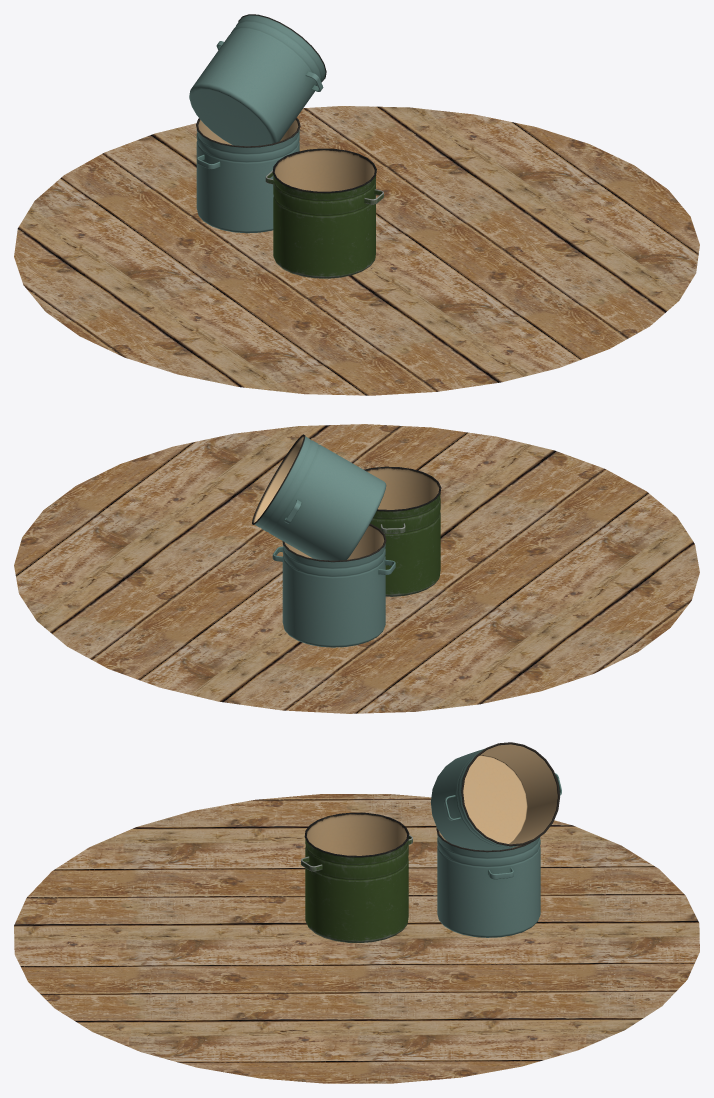
File: kitchen-pot-22701f.glb
The picture shows the model from 3 angles, top to bottom: view 1: azimuth 30°, elevation 25°; view 2: azimuth 150°, elevation 25°; view 3: azimuth 270°, elevation 25°; orthographic projection.
Visible parts, largest first — view 1: PropMesh; view 2: PropMesh; view 3: PropMesh.
Part boxes in pixels (left/top/right/bottom): PropMesh: left=14, top=14, right=699, bottom=395; PropMesh: left=14, top=424, right=699, bottom=713; PropMesh: left=14, top=742, right=699, bottom=1083.
Bounding box in the file's own units: 0.9 × 0.2703 × 0.9.
3 materials, 3 textured.
